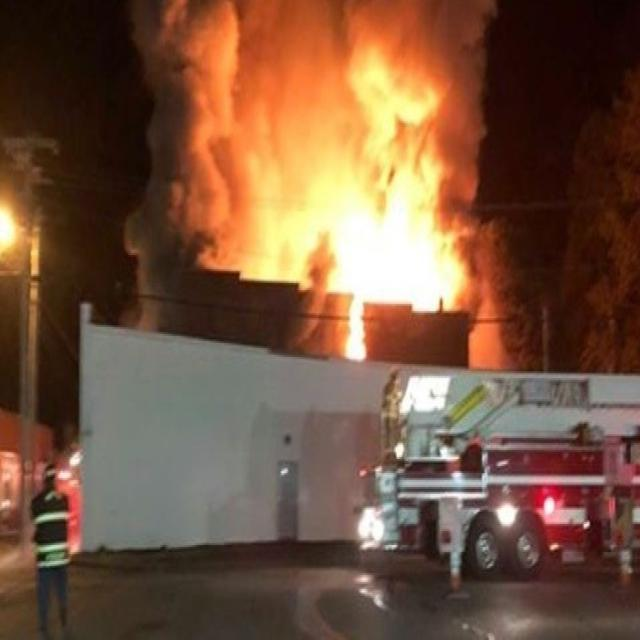Fire: (328, 196, 456, 299)
Smoke: (248, 15, 448, 127), (158, 0, 242, 236)
